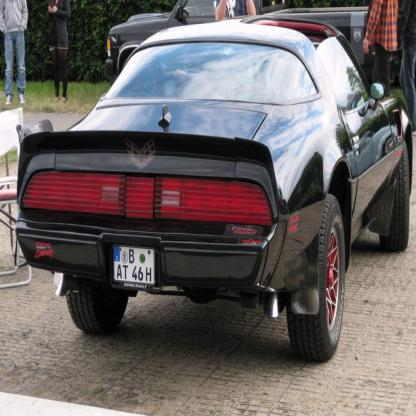Car: (17, 15, 414, 362)
